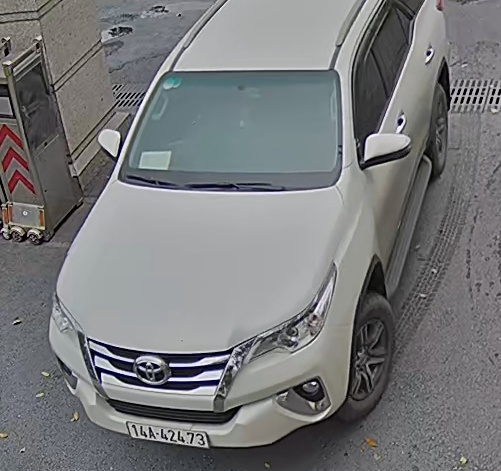vehicle plate: (116, 415, 213, 454)
